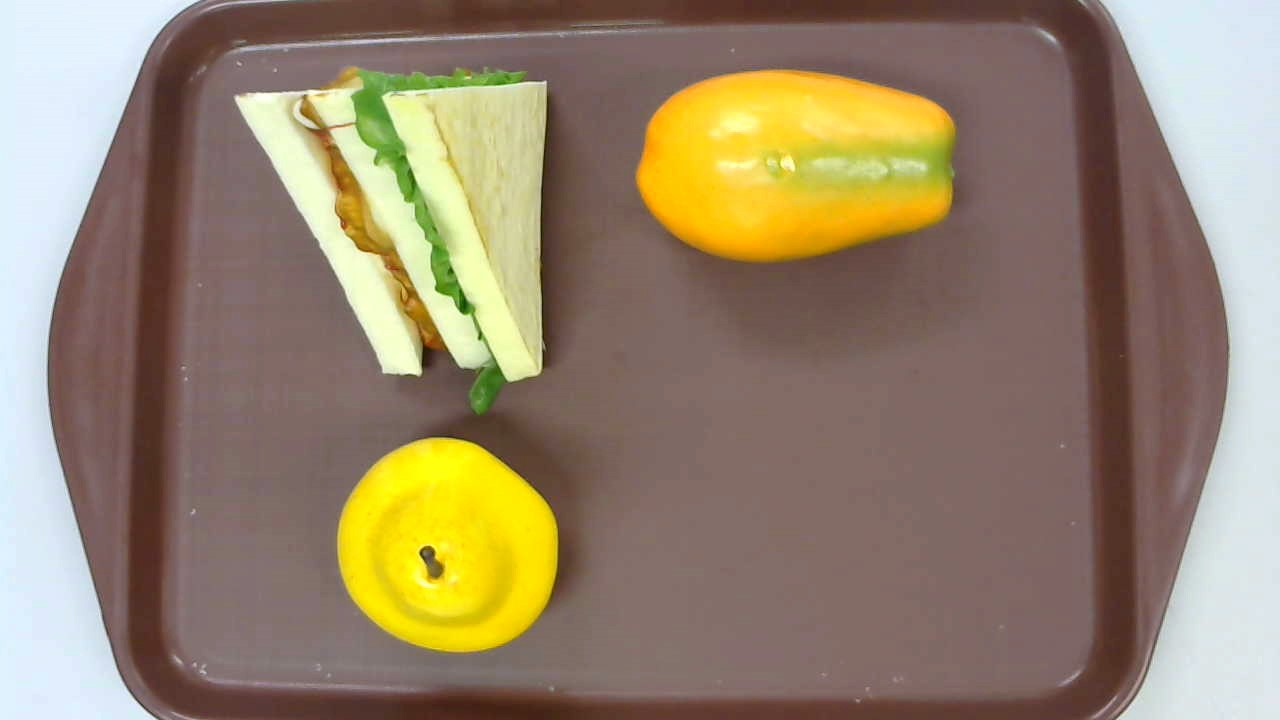papya: (636, 68, 955, 264)
sandwich: (233, 62, 547, 414)
yellow pear: (337, 435, 560, 651)
